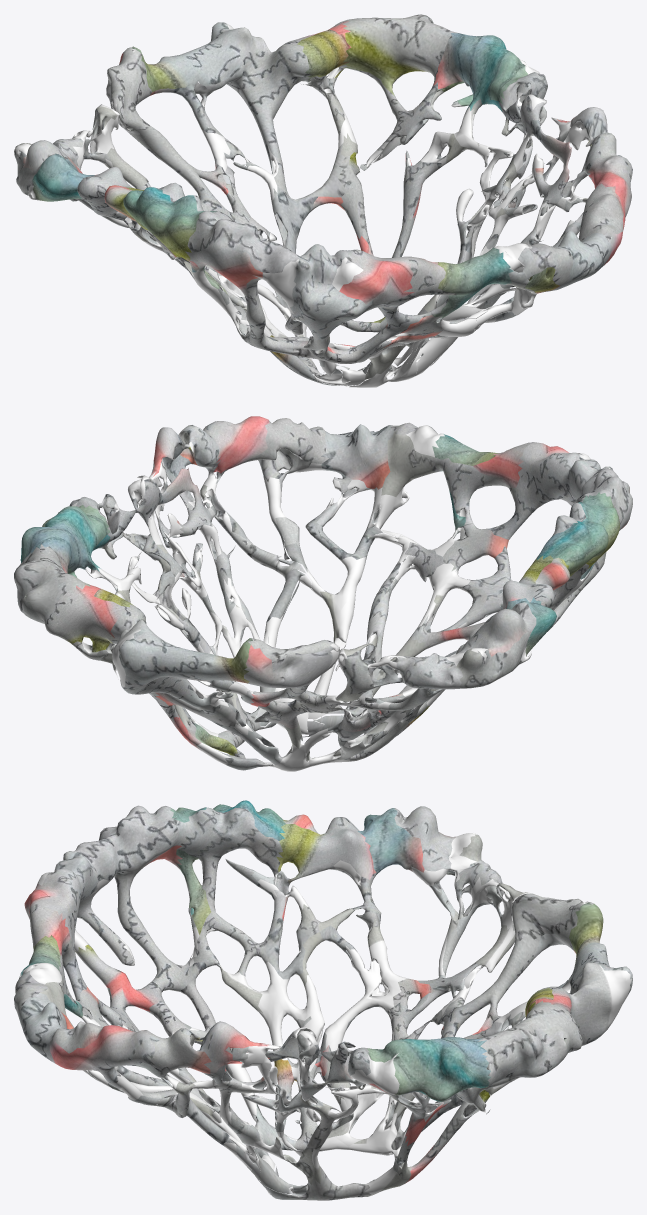
3 renders of one model, top to bottom at view 1: azimuth 30°, elevation 25°; view 2: azimuth 150°, elevation 25°; view 3: azimuth 270°, elevation 25°, orthographic. The views are drawn at different scales.
Parts seen in each view (by area): view 1: mvadapter_node_texture_mesh_tripoglb; view 2: mvadapter_node_texture_mesh_tripoglb; view 3: mvadapter_node_texture_mesh_tripoglb.
Part boxes in pixels (x1=…): mvadapter_node_texture_mesh_tripoglb: x1=14, y1=14, x2=632, y2=387; mvadapter_node_texture_mesh_tripoglb: x1=14, y1=416, x2=632, y2=771; mvadapter_node_texture_mesh_tripoglb: x1=14, y1=800, x2=632, y2=1200.
Size of the model in its own units: 1.77 by 0.9065 by 1.9.
1 material, 1 textured.
